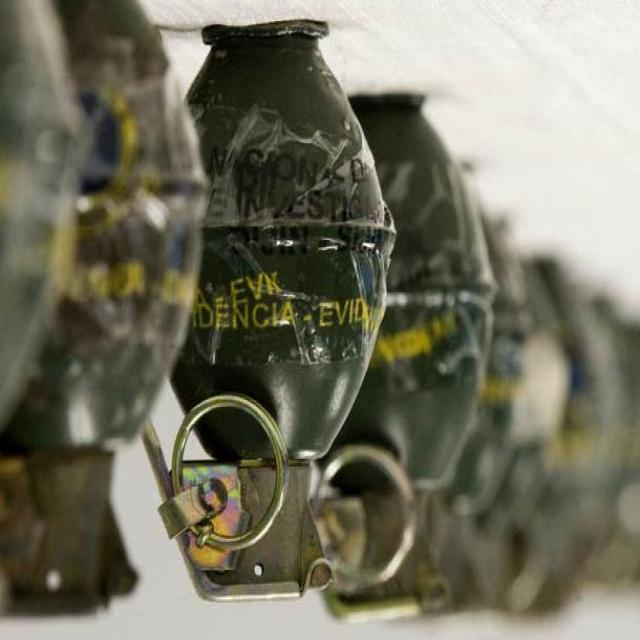grenade: (141, 18, 398, 602), (2, 2, 208, 623), (315, 97, 496, 624), (415, 216, 529, 618), (507, 256, 612, 626), (472, 257, 573, 616), (559, 299, 637, 592), (621, 318, 640, 600)
